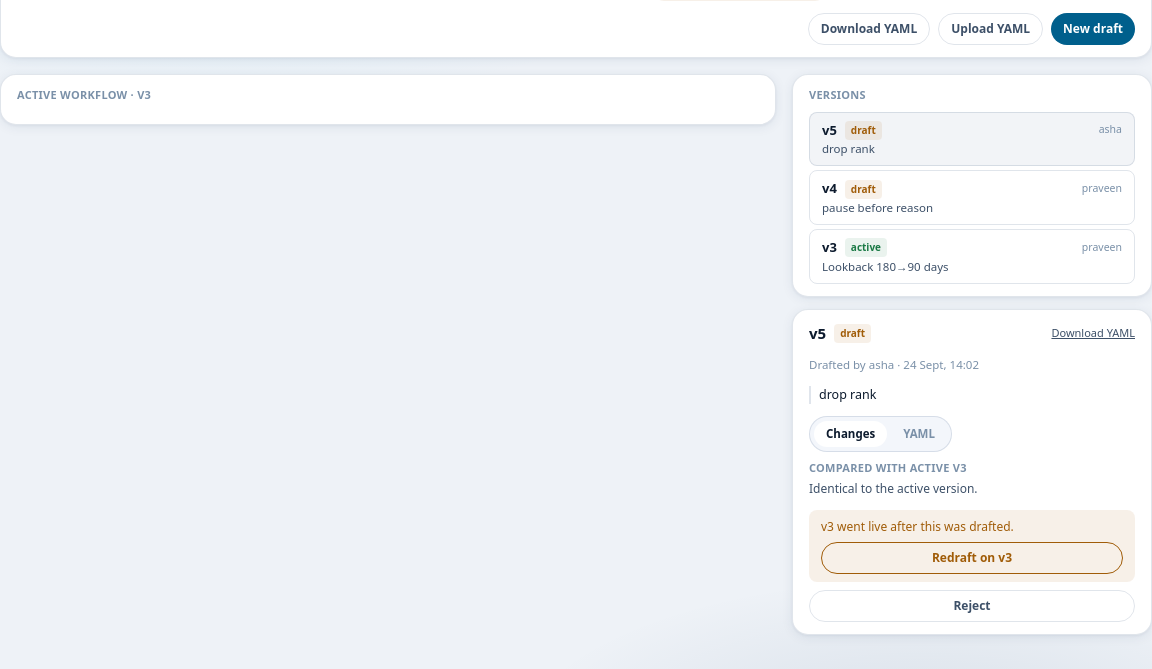
Scenario: WorkflowView › loads a redrafted config into an editor that is already open, even onto the same base version
What coordinates should you click on to do the following:
click the button "New draft"
I would click on:
 (1093, 29)
Its box is [1051,13,1135,45].
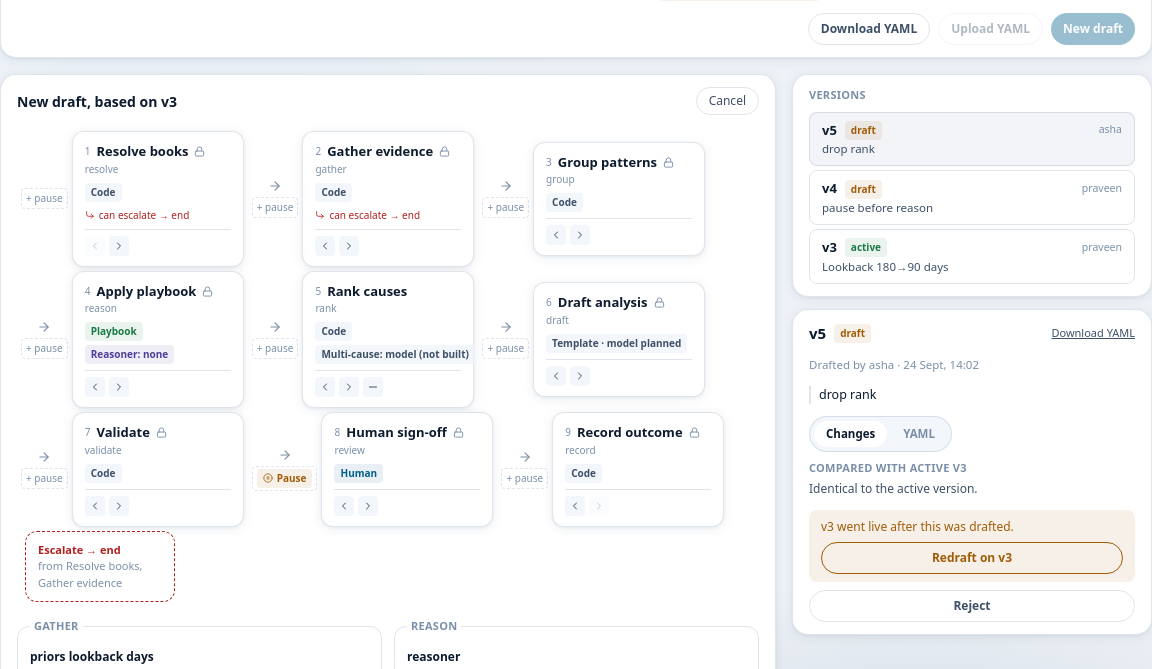
What coordinates should you click on to do the following:
click the button "Redraft on v3"
I would click on:
 (972, 558)
Its box is [821,542,1123,574].
(page scrolled)
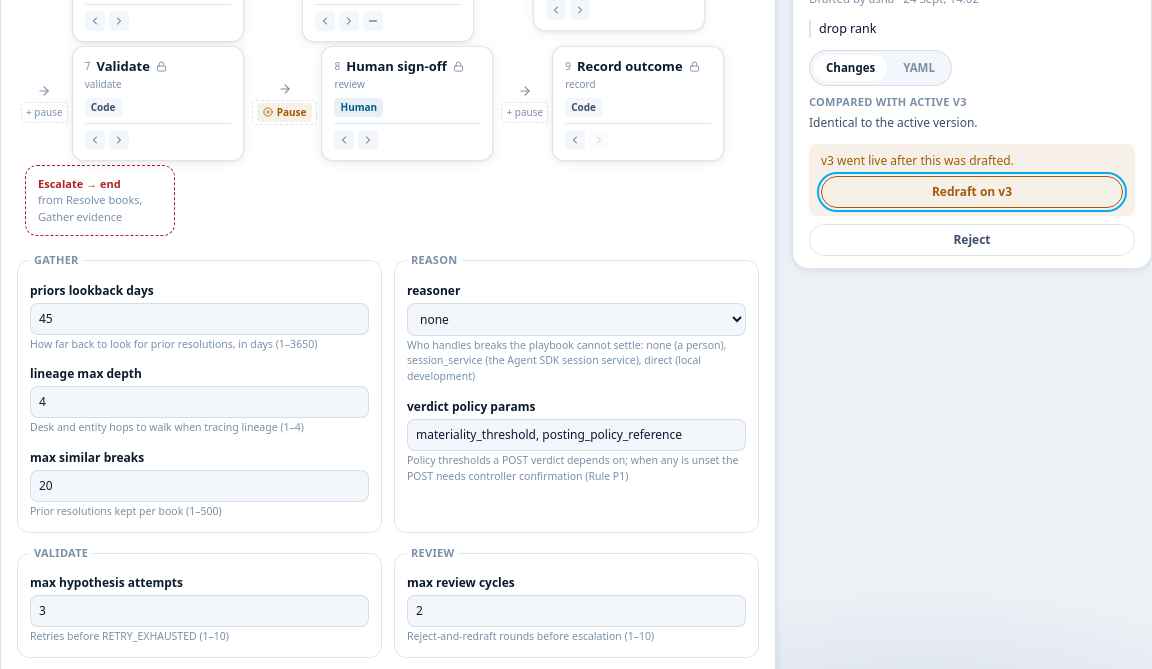
Result: the number field labelled "priors lookback days" holds "45" at [30,302,369,334]
